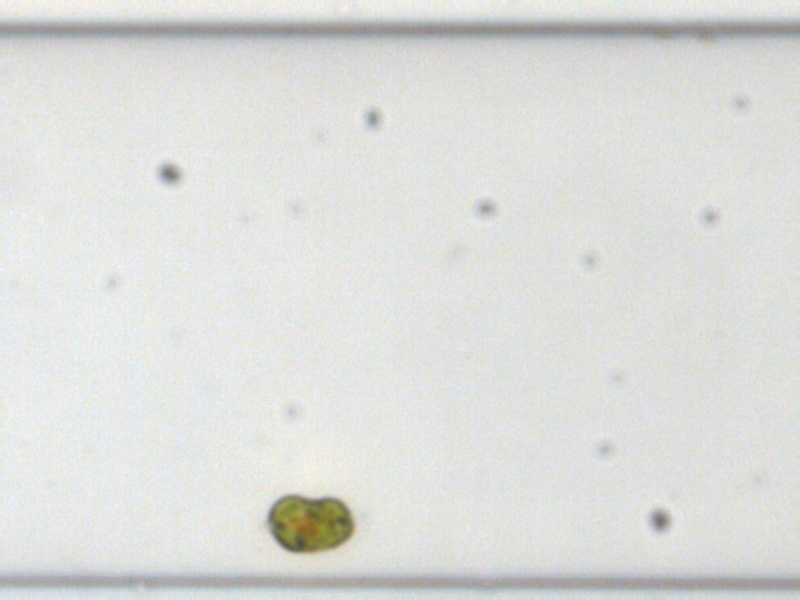Haematococcus: (264, 491, 355, 555)
